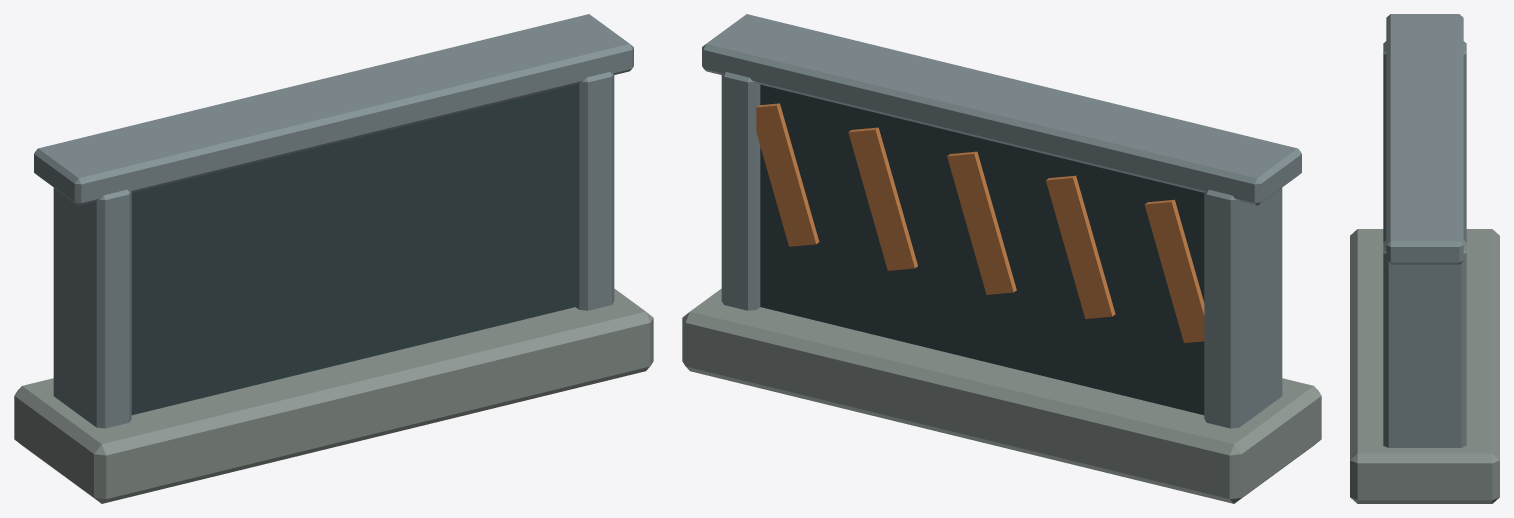
The model's file is barricade.glb.
3 views of the same model, side by side, from view 1: azimuth 30°, elevation 25°; view 2: azimuth 150°, elevation 25°; view 3: azimuth 270°, elevation 25° (orthographic). The views are drawn at different scales.
Visible parts, largest first — view 1: barricade_Surface; view 2: barricade_Surface; view 3: barricade_Surface.
Boxes of the visible parts, box(x1,y1,x2,y2) form: barricade_Surface: box(14, 14, 653, 503); barricade_Surface: box(682, 14, 1321, 503); barricade_Surface: box(1350, 14, 1499, 503).
Bounding box in the file's own units: 2.55 × 1.36 × 0.7.
1 material, 1 textured.
